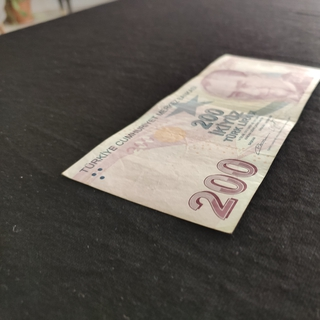200TLFront: (61, 53, 320, 234)
